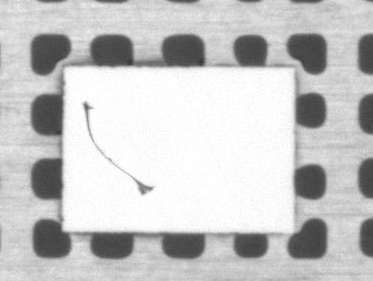DIE_INK: (83, 102, 151, 194)
